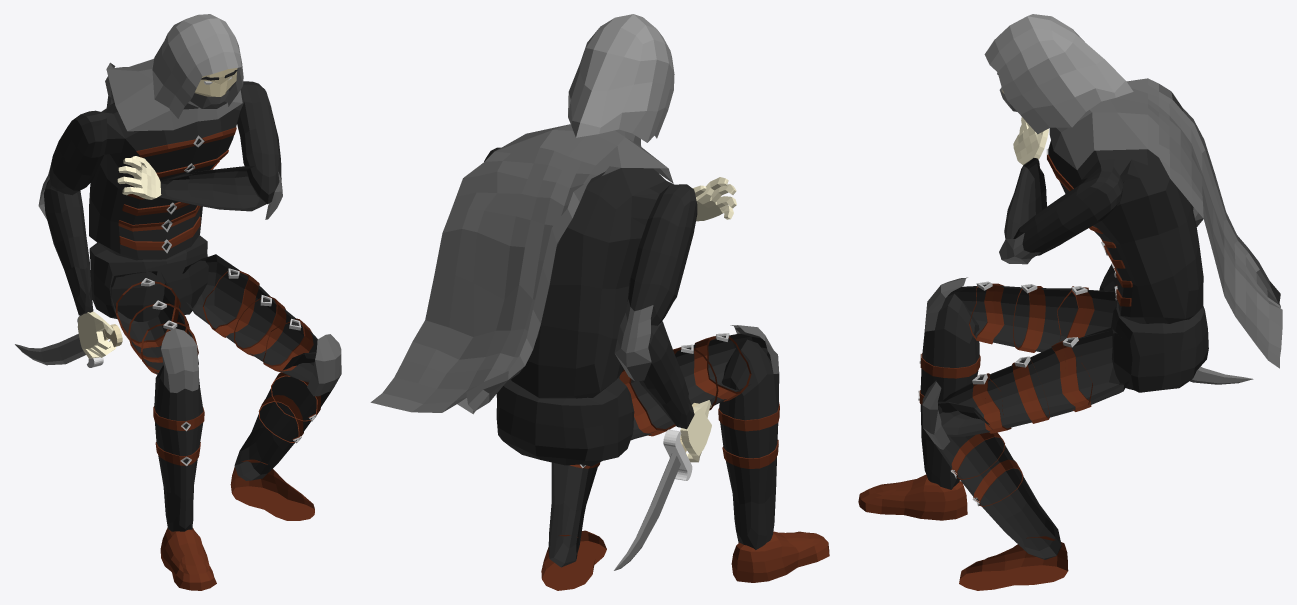
File: modeloladron2.glb
The picture shows the model from 3 angles, left to right: view 1: azimuth 30°, elevation 25°; view 2: azimuth 150°, elevation 25°; view 3: azimuth 270°, elevation 25°; orthographic projection. The views are drawn at different scales.
Visible parts, largest first — view 1: ThiefTorso; view 2: ThiefTorso; view 3: ThiefTorso.
Part boxes in pixels (x1=…): ThiefTorso: x1=15, y1=14, x2=341, y2=590; ThiefTorso: x1=370, y1=14, x2=829, y2=590; ThiefTorso: x1=858, y1=14, x2=1282, y2=590.
Size of the model in its own units: 0.3987 by 0.9052 by 0.6556.
